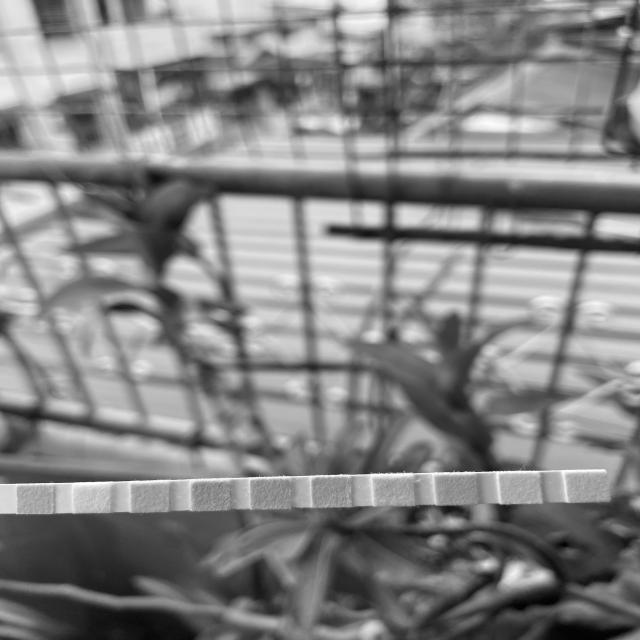Bilirubin: (74, 486, 110, 512)
Blood: (250, 479, 290, 509)
Glucose: (17, 485, 53, 515)
Ketone: (132, 484, 168, 512)
Leukocytes: (570, 472, 606, 502)
Nitrite: (501, 474, 539, 504)
Protein: (372, 476, 413, 506)
SpGravity: (191, 482, 230, 511)
Urobilinogen: (435, 475, 476, 504)
background: (0, 0, 640, 640)
pH: (312, 478, 351, 508)
strip: (2, 469, 609, 514)
